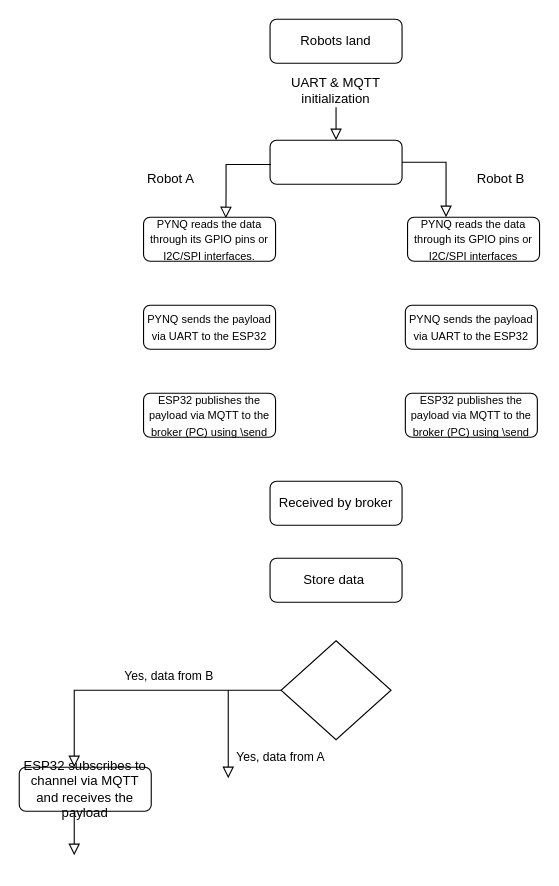
This 559x886 diagram has some shape labels left out. Here are the shapes that lost their labels. From the top down, the centre of each, then its label:
At (x=335, y=161): "Data retrieved for example by sensors".
At (x=335, y=690): "Does it have to be send to other robot.".
